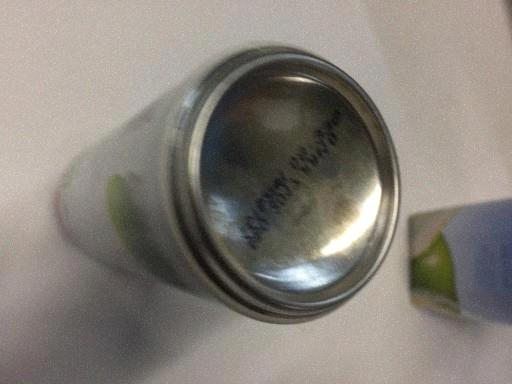metal: (0, 39, 403, 345), (154, 45, 401, 326)
